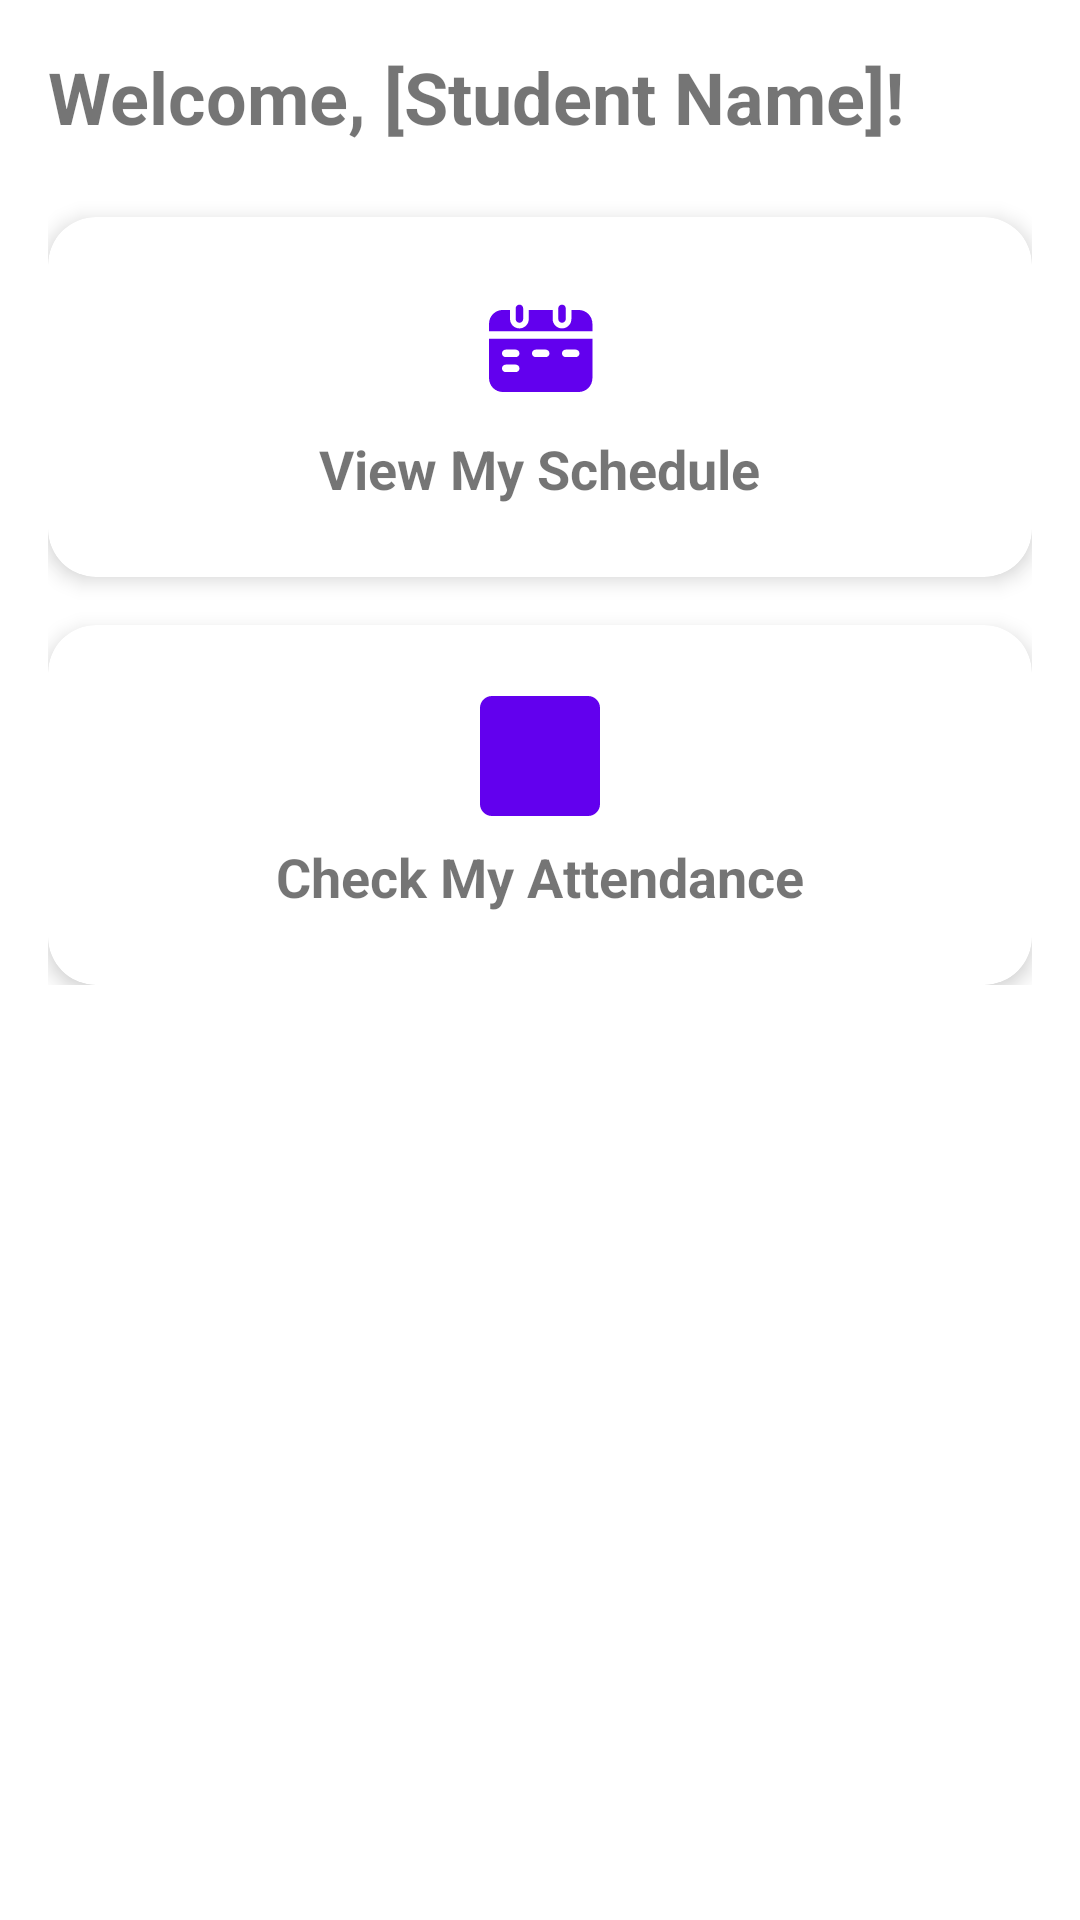

Named icons in this screenshot (1080x1920) and their centers, [x,y]:
calendar mark: [541,348]
